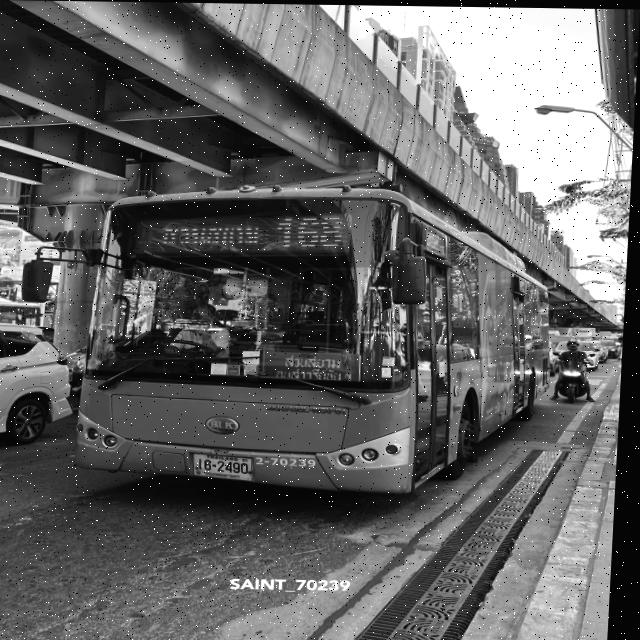BMTA-bus: (77, 184, 558, 497)
Bus-Line-Number: (273, 209, 352, 251)
Destination-Sign-Normal: (270, 349, 364, 384)
